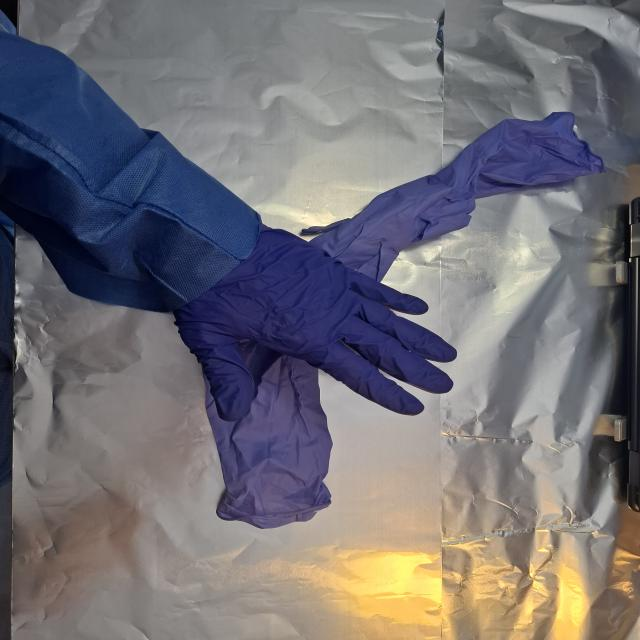glove_on: (170, 222, 462, 424)
